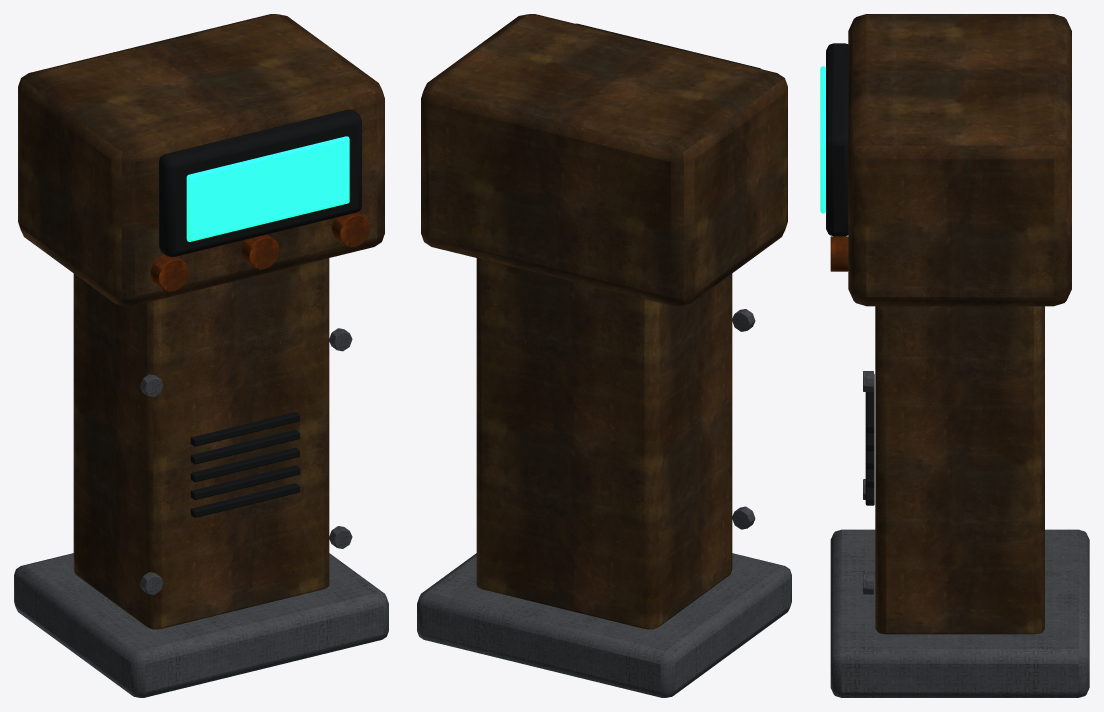
Rendered from teleporter_console.glb.
3 views of the same model, side by side, from view 1: azimuth 30°, elevation 25°; view 2: azimuth 150°, elevation 25°; view 3: azimuth 270°, elevation 25° (orthographic). The views are drawn at different scales.
Parts seen in each view (by area): view 1: EmergencyTransferConsole; view 2: EmergencyTransferConsole; view 3: EmergencyTransferConsole.
Part boxes in pixels (x1=…): EmergencyTransferConsole: x1=14, y1=14, x2=388, y2=697; EmergencyTransferConsole: x1=417, y1=14, x2=791, y2=697; EmergencyTransferConsole: x1=820, y1=14, x2=1089, y2=697.
Bounding box in the file's own units: 0.72 × 1.39 × 0.603.
5 materials, 3 textured.
